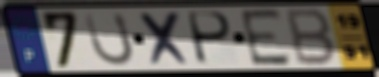7: (38, 10, 82, 71)
B: (284, 7, 338, 68)
E: (237, 7, 295, 69)
P: (187, 10, 235, 68)
U: (82, 11, 137, 68)
X: (135, 10, 196, 68)
